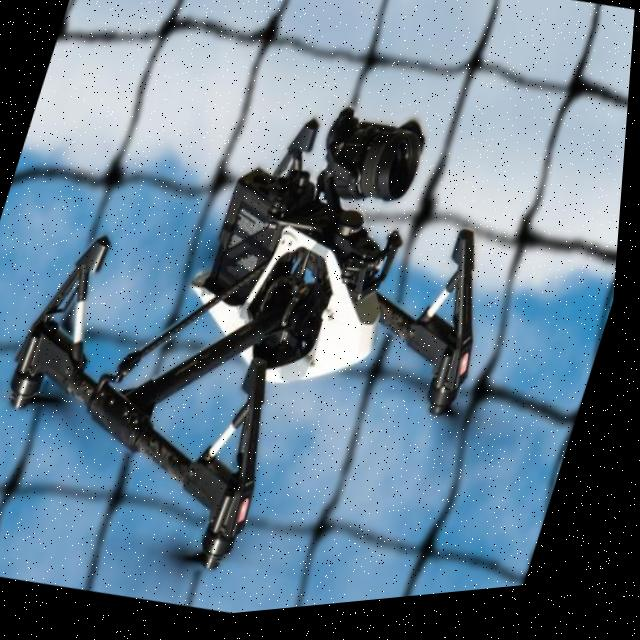drones: (0, 0, 607, 640)
